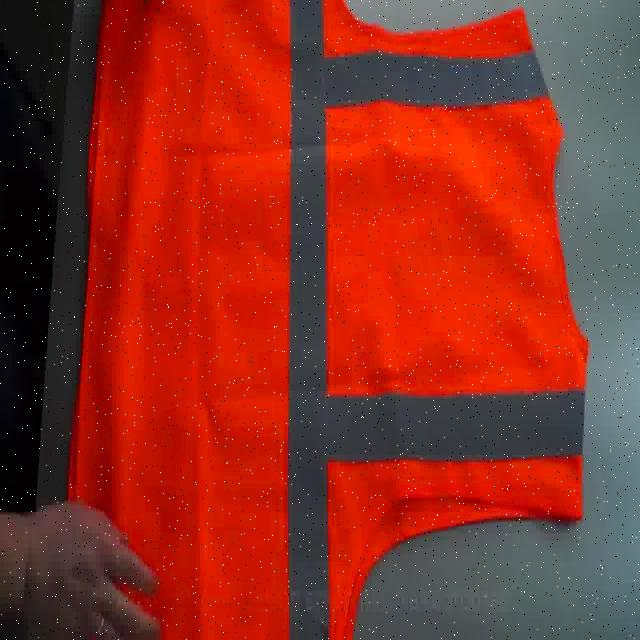Vest: (61, 3, 567, 632)
